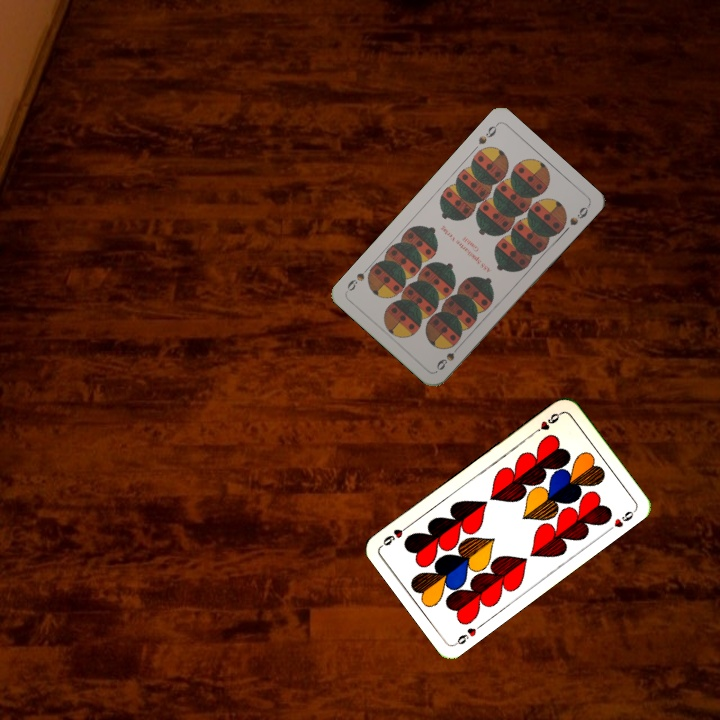H9: (529, 408, 564, 437), (451, 623, 479, 647)
S9: (432, 341, 464, 373), (474, 120, 500, 147)
